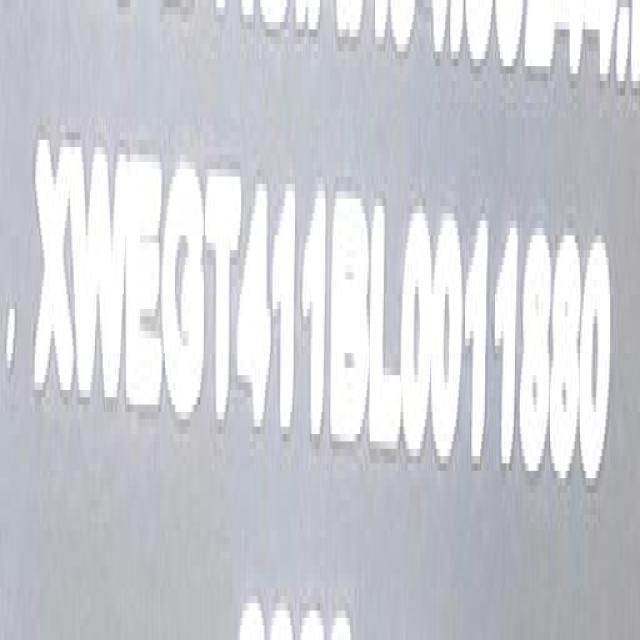0: (432, 199, 464, 477), (400, 196, 432, 472), (580, 224, 612, 491)
1: (302, 178, 330, 451), (273, 176, 298, 447), (495, 209, 519, 481), (464, 207, 487, 478)
4: (239, 172, 271, 444)
8: (521, 217, 553, 488), (550, 215, 581, 482)
B: (330, 183, 371, 461)
E: (127, 148, 167, 427)
G: (161, 152, 206, 442)
L: (368, 180, 402, 463)
T: (205, 160, 242, 436)
W: (75, 132, 129, 423)
X: (32, 123, 74, 414)
